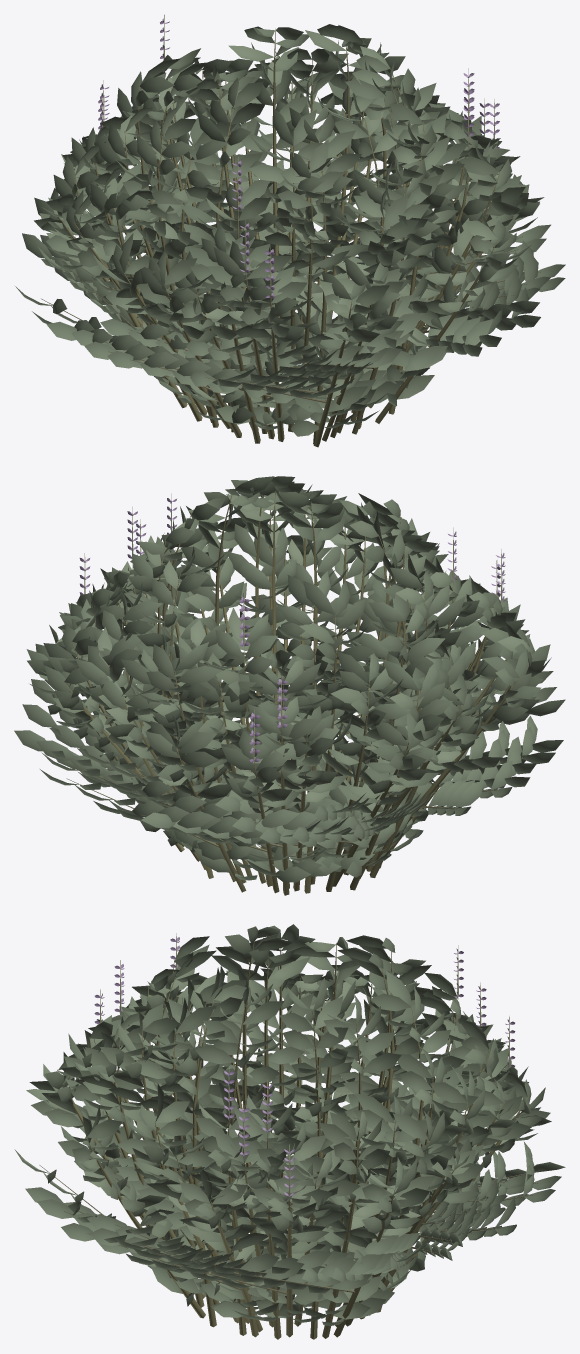
Rendered from salvia-fruticosa.glb.
3 views of the same model, one above another, from view 1: azimuth 30°, elevation 25°; view 2: azimuth 150°, elevation 25°; view 3: azimuth 270°, elevation 25° (orthographic).
Visible parts, largest first — view 1: salvia-fruticosa dense natural leaf mound, salvia-fruticosa connected low branching, salvia-fruticosa restrained seasonal flowers; view 2: salvia-fruticosa dense natural leaf mound, salvia-fruticosa connected low branching, salvia-fruticosa restrained seasonal flowers; view 3: salvia-fruticosa dense natural leaf mound, salvia-fruticosa connected low branching, salvia-fruticosa restrained seasonal flowers.
Part boxes in pixels (box(x1,y1,x2,y2)): salvia-fruticosa dense natural leaf mound: box(15, 24, 565, 436); salvia-fruticosa connected low branching: box(41, 14, 540, 447); salvia-fruticosa restrained seasonal flowers: box(98, 18, 499, 298); salvia-fruticosa dense natural leaf mound: box(14, 476, 565, 882); salvia-fruticosa connected low branching: box(63, 488, 532, 895); salvia-fruticosa restrained seasonal flowers: box(79, 498, 505, 762); salvia-fruticosa dense natural leaf mound: box(14, 924, 565, 1325); salvia-fruticosa connected low branching: box(39, 933, 539, 1339); salvia-fruticosa restrained seasonal flowers: box(94, 937, 515, 1197).
Size of the model in its own units: 0.9715 by 0.6744 by 0.969.
